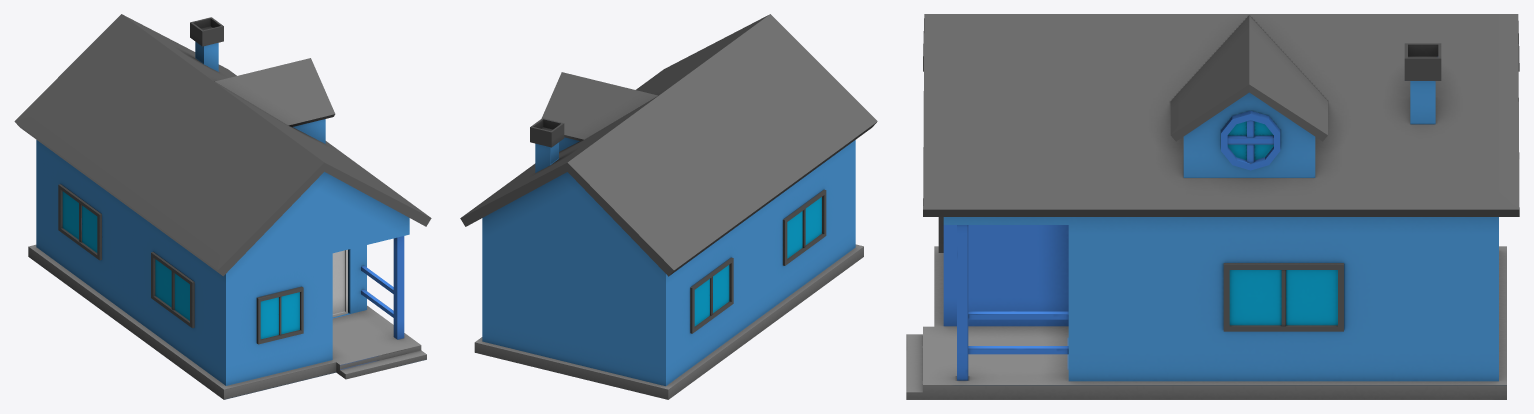
Rendered from house_3.fbx.
3 renders of one model, left to right at view 1: azimuth 30°, elevation 25°; view 2: azimuth 150°, elevation 25°; view 3: azimuth 270°, elevation 25°, orthographic. The views are drawn at different scales.
Parts seen in each view (by area): view 1: House 3 Complete; view 2: House 3 Complete; view 3: House 3 Complete.
Boxes of the visible parts, x1=… form: House 3 Complete: x1=14, y1=14, x2=431, y2=399; House 3 Complete: x1=460, y1=14, x2=877, y2=399; House 3 Complete: x1=906, y1=14, x2=1519, y2=399.
Size of the model in its own units: 1157 by 1122 by 1962.
1 material, 1 textured.
